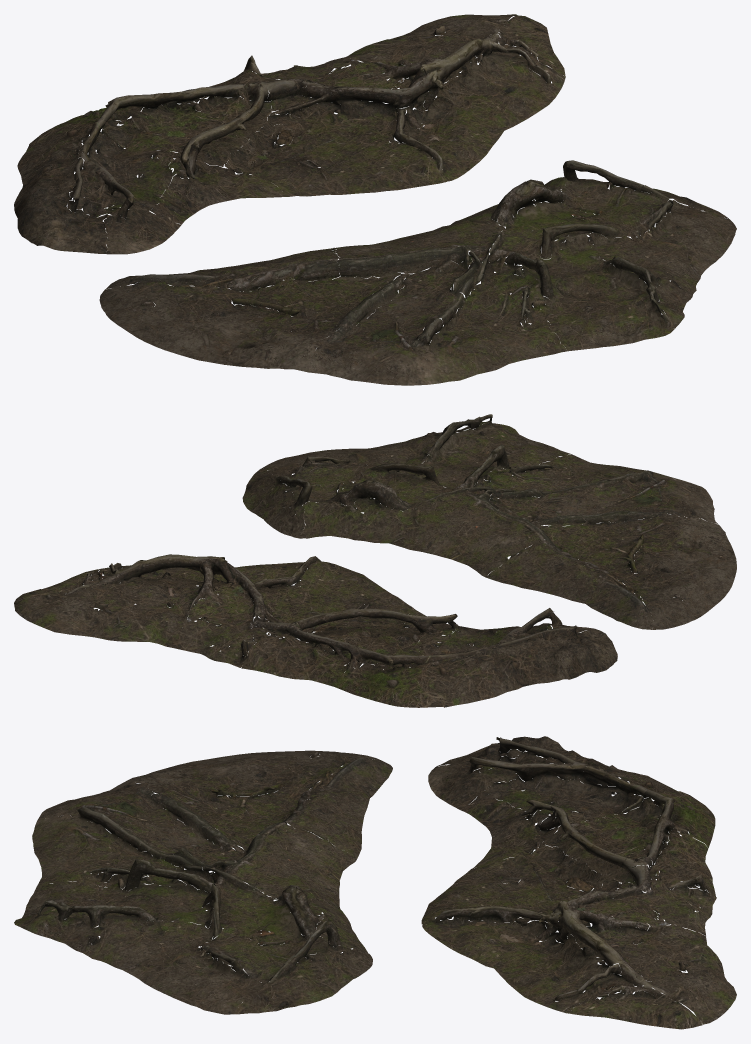
Rendered from pine_roots.glb.
3 views of the same model, one above another, from view 1: azimuth 30°, elevation 25°; view 2: azimuth 150°, elevation 25°; view 3: azimuth 270°, elevation 25° (orthographic). The views are drawn at different scales.
Visible parts, largest first — view 1: pine_roots_b, pine_roots_a; view 2: pine_roots_b, pine_roots_a; view 3: pine_roots_b, pine_roots_a.
Part boxes in pixels (left/top/right/bottom): pine_roots_b: left=99, top=160, right=736, bottom=385; pine_roots_a: left=14, top=14, right=565, bottom=254; pine_roots_b: left=242, top=414, right=736, bottom=629; pine_roots_a: left=14, top=554, right=617, bottom=707; pine_roots_b: left=14, top=750, right=392, bottom=1014; pine_roots_a: left=421, top=736, right=736, bottom=1029.
Size of the model in its own units: 1.77 by 0.1542 by 1.89.
Materials: 2 (2 with a texture image).
